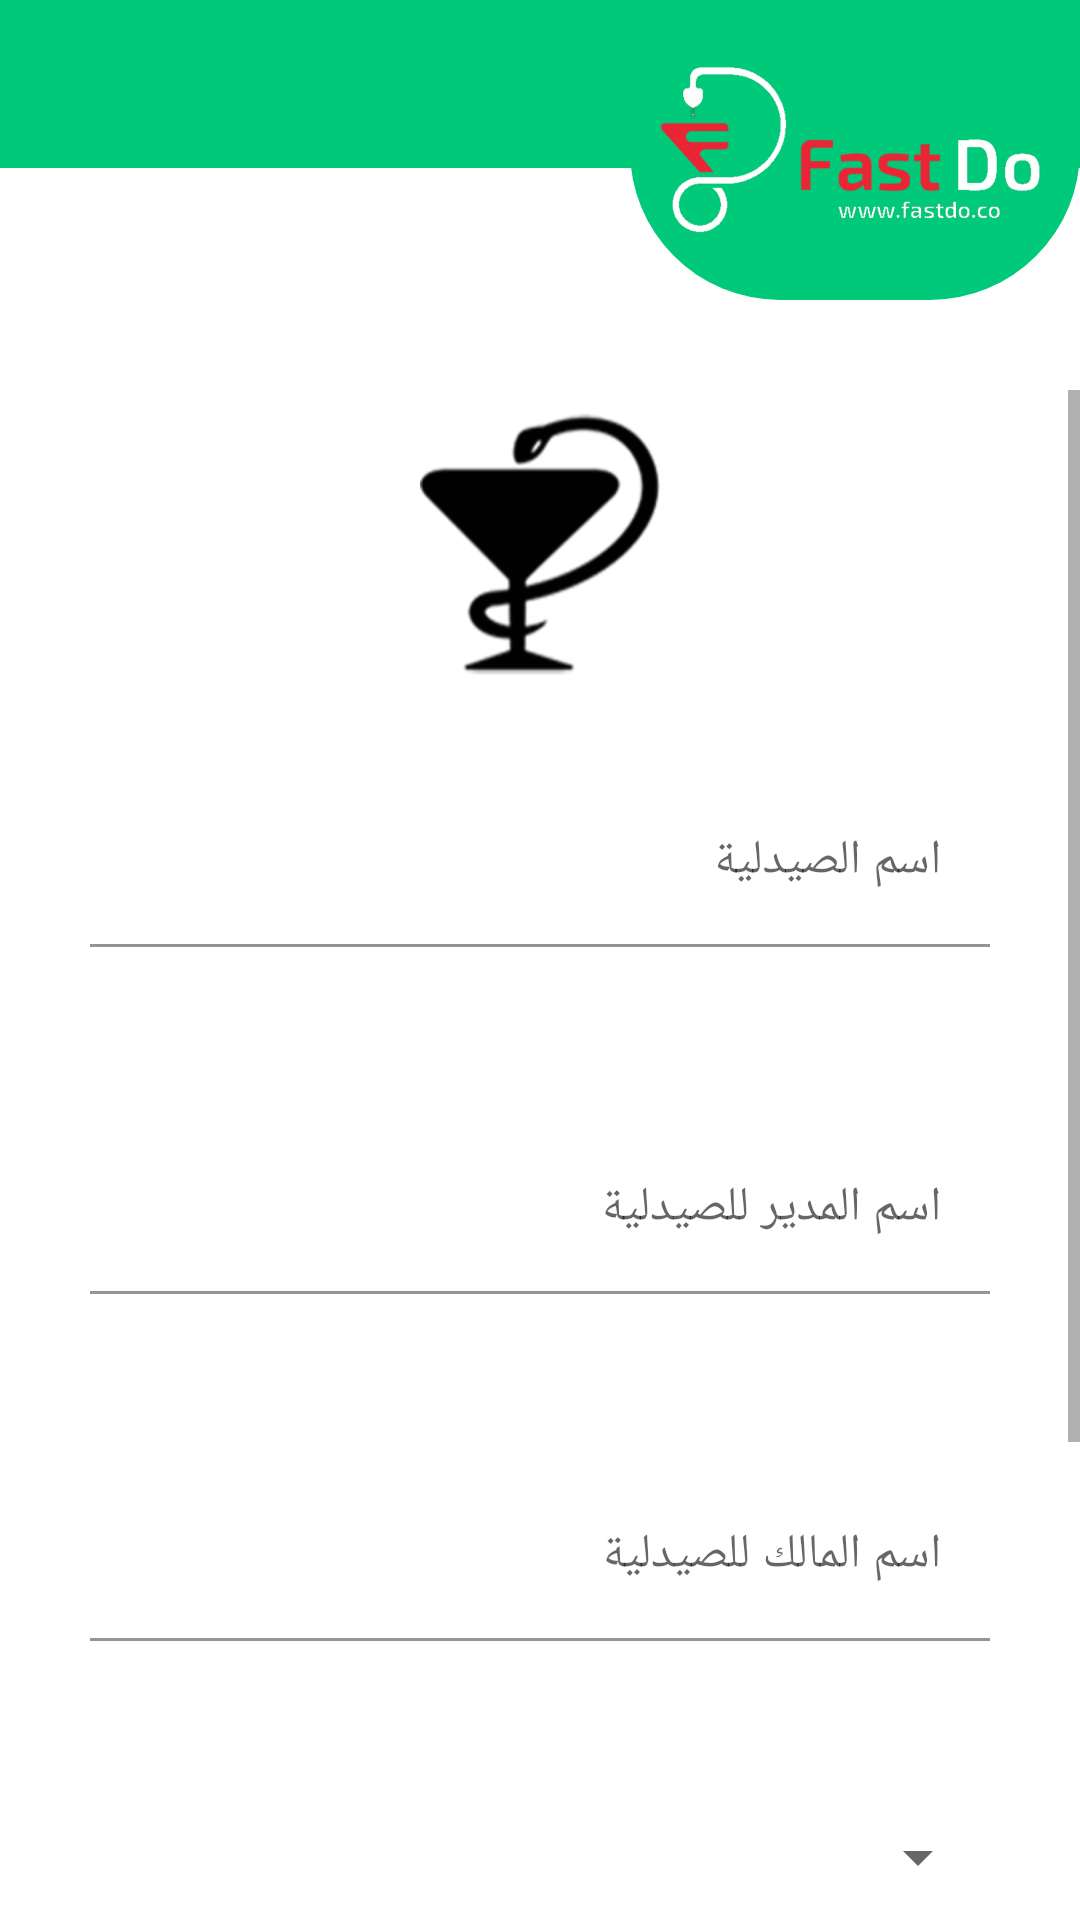

Screen size 1080 x 1920. Icon name, then its box in pixels as (x1, y1, x2, y2):
pharmacy: (420, 414, 660, 674)
